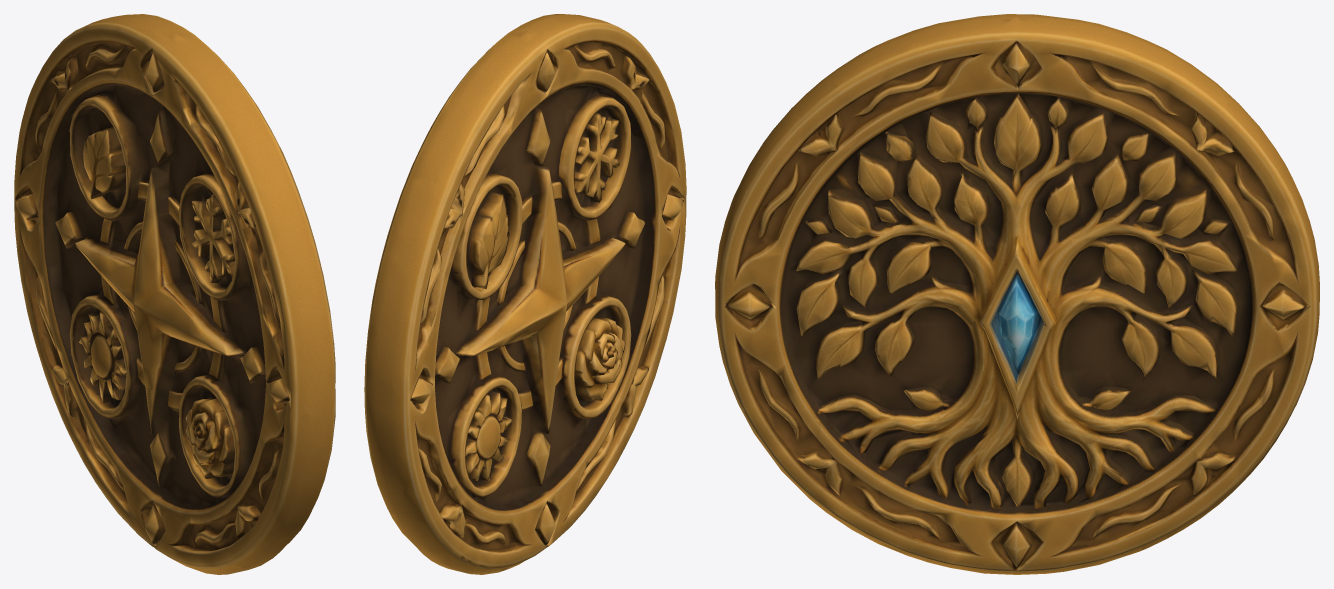
The picture shows the model from 3 angles, left to right: view 1: azimuth 30°, elevation 25°; view 2: azimuth 150°, elevation 25°; view 3: azimuth 270°, elevation 25°; orthographic projection. The views are drawn at different scales.
Visible parts, largest first — view 1: tripo_node_542433f1-e1a9-4b43-ad74-83553c54b7bd; view 2: tripo_node_542433f1-e1a9-4b43-ad74-83553c54b7bd; view 3: tripo_node_542433f1-e1a9-4b43-ad74-83553c54b7bd.
Boxes of the visible parts, x1,y1,x2,y2 form: tripo_node_542433f1-e1a9-4b43-ad74-83553c54b7bd: [14, 14, 335, 574]; tripo_node_542433f1-e1a9-4b43-ad74-83553c54b7bd: [364, 14, 686, 574]; tripo_node_542433f1-e1a9-4b43-ad74-83553c54b7bd: [715, 14, 1319, 574].
Size of the model in its own units: 0.1686 by 1 by 0.9892.
1 material, 1 textured.
